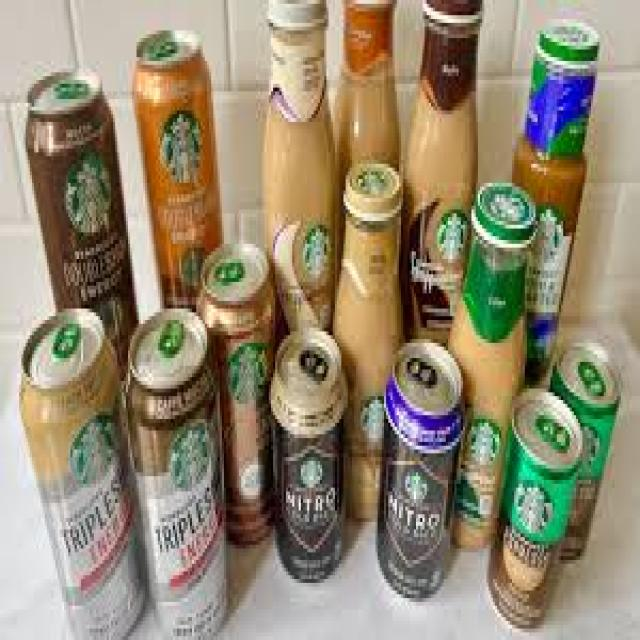Cans: (17, 305, 154, 636), (120, 309, 230, 636), (21, 61, 141, 347), (130, 27, 231, 290), (269, 328, 354, 582), (491, 374, 572, 628), (379, 343, 456, 602)
